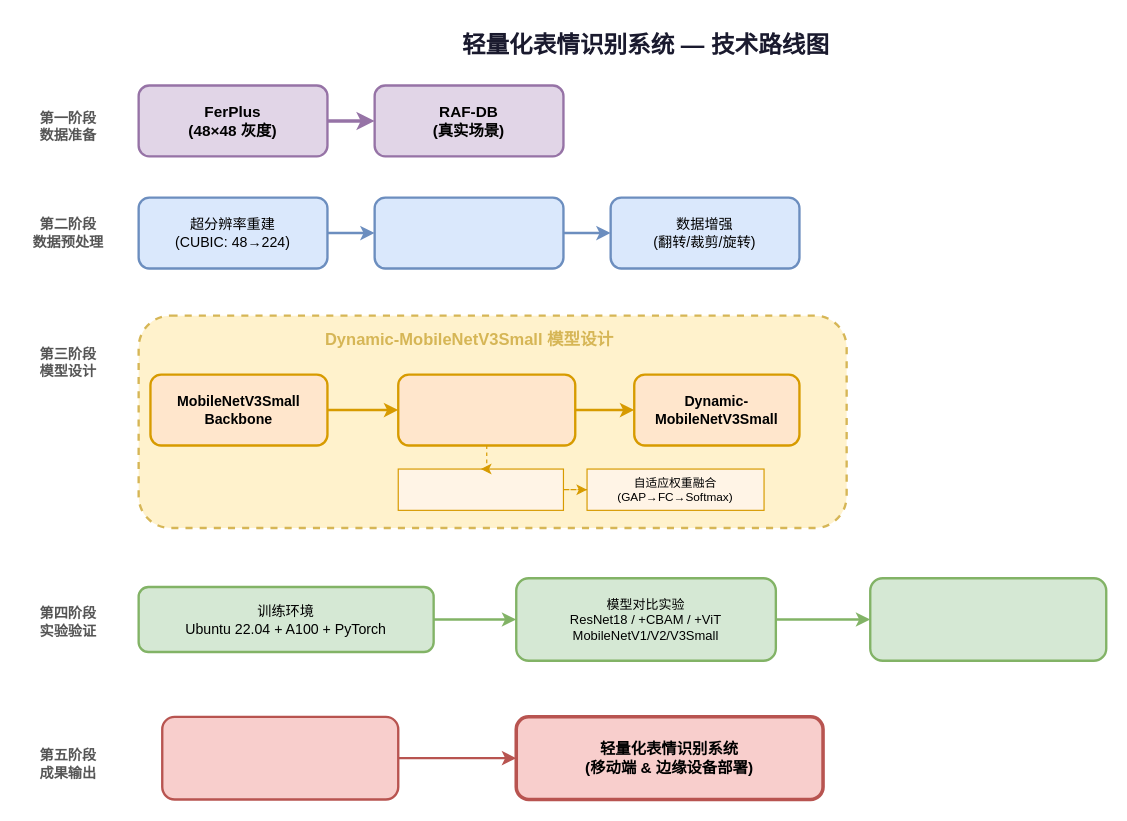
This 1127x821 diagram has some shape labels left out. The shapes that lost their labels are listed below. From the top down, each one's centre as x and y in pixels, then its label:
At point (468, 232): "CLAHE 光照增强 (clipLimit=3.0, 8×8)".
At point (486, 409): "Dynamic Receptive Field Block".
At point (480, 489): "并行 3×3 & 5×5 DWConv".
At point (987, 618): "消融实验 CLAHE / SR插值 / DRF".
At point (279, 757): "82.73% 准确率 1.23MB / 0.05 GFLOPs F1-Score: 82.24%".
